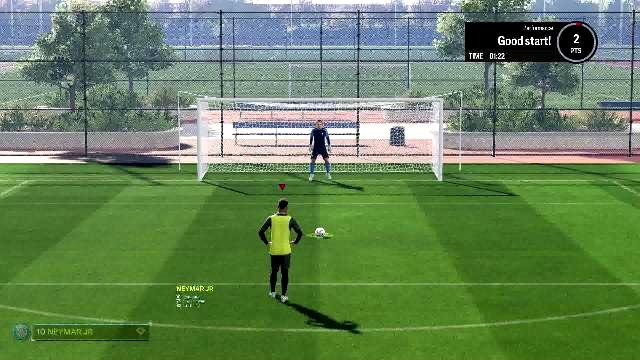bottom-left: (204, 145, 276, 179)
bottom-right: (360, 144, 440, 180)
center-down: (278, 146, 358, 180)
center-up: (277, 102, 357, 144)
circle: (306, 231, 334, 239)
football: (314, 228, 326, 236)
goalkeeper: (310, 122, 340, 182)
player: (256, 198, 304, 304)
top-left: (203, 102, 275, 144)
top-right: (359, 102, 438, 144)
